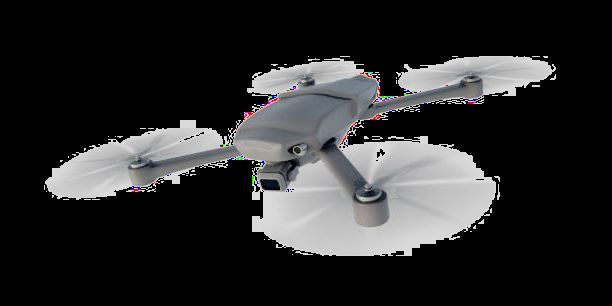Drone: (41, 40, 555, 257)
